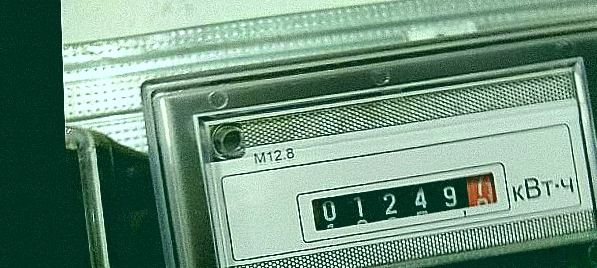0: (317, 195, 337, 221)
1: (349, 193, 365, 218)
2: (379, 190, 400, 216)
4: (411, 183, 430, 210)
7: (471, 173, 486, 197)
9: (440, 182, 459, 207)
screen: (288, 163, 524, 246)
